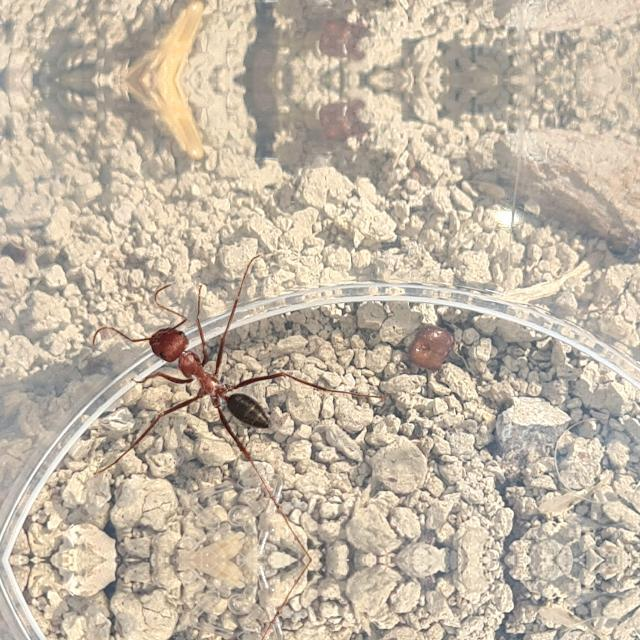Cataglyphis: (114, 303, 304, 452)
